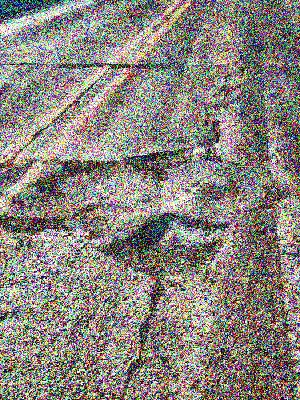pothole: (101, 211, 236, 281), (0, 210, 68, 237), (124, 146, 194, 171), (60, 156, 105, 174)
